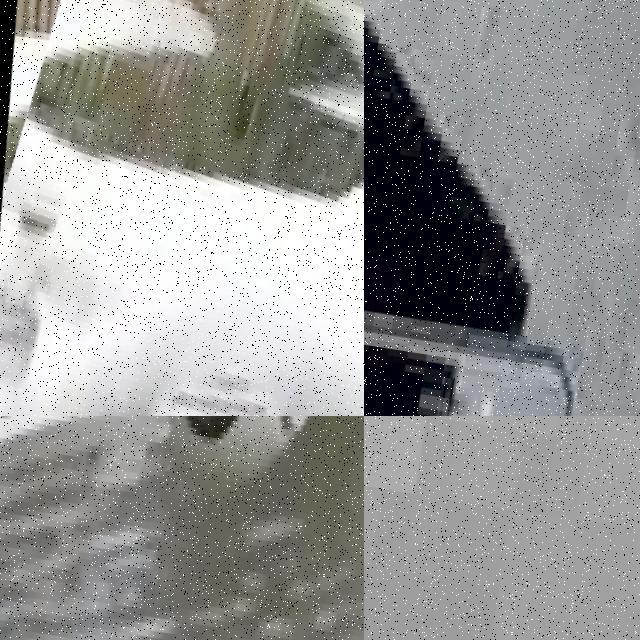drone: (0, 0, 364, 416)
